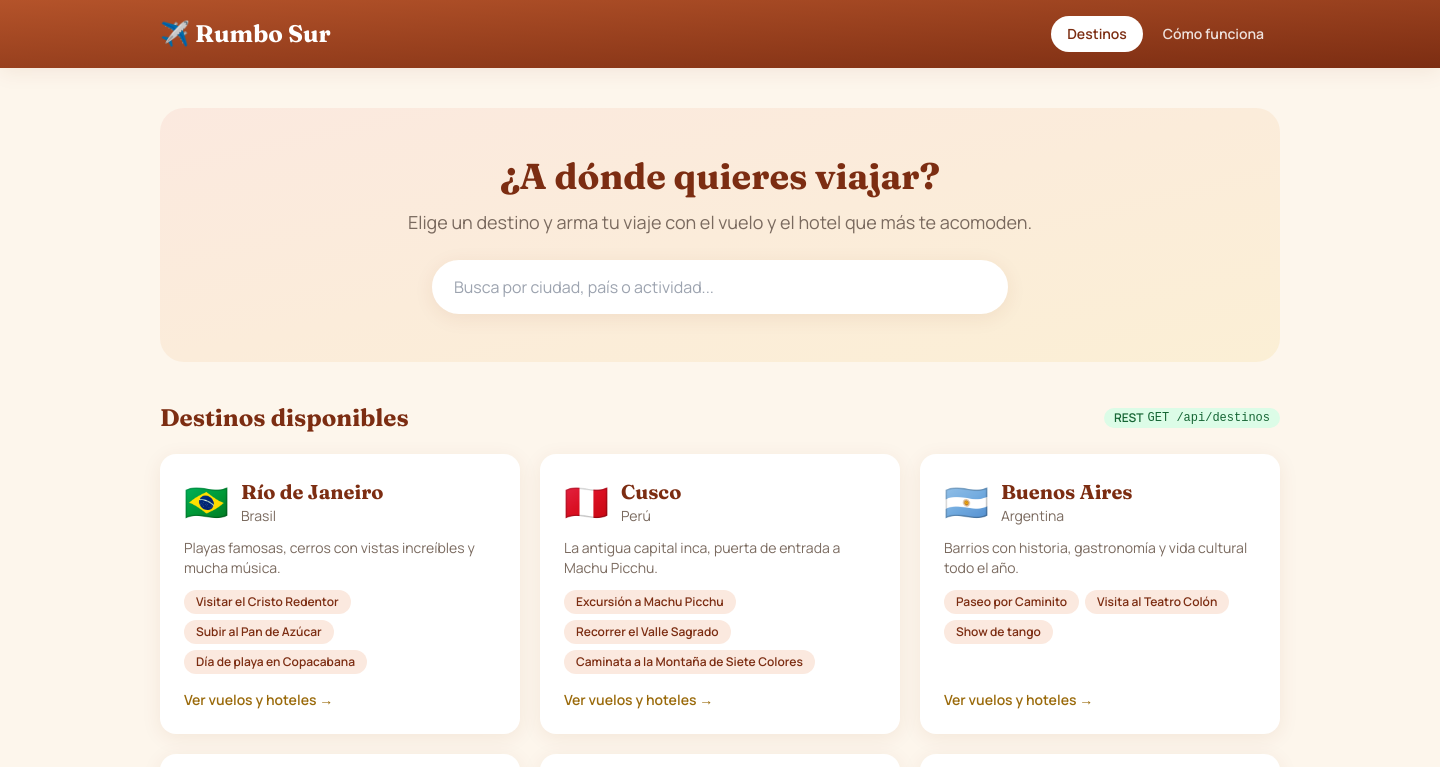
Test case: Página Inicio (REST) › sin coincidencias muestra un mensaje
This screenshot has width=1440, height=767.
Expected: the heading "Cusco" is shown, [621, 478, 681, 506]
Type "tokio" into the search field named "Buscar destinos" at (720, 287), box [432, 260, 1008, 314]
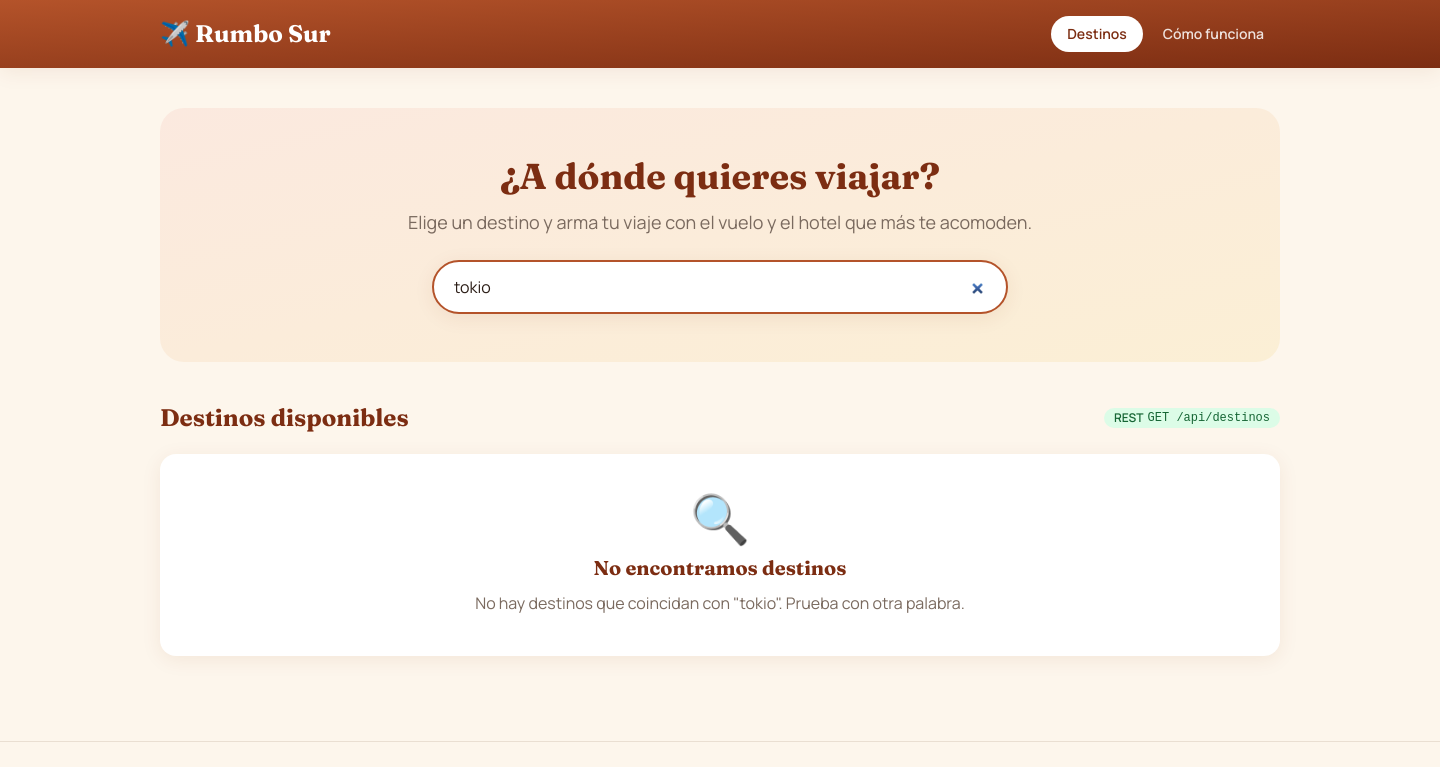
Result: the heading "No encontramos destinos" is shown at [594, 555, 846, 580]
